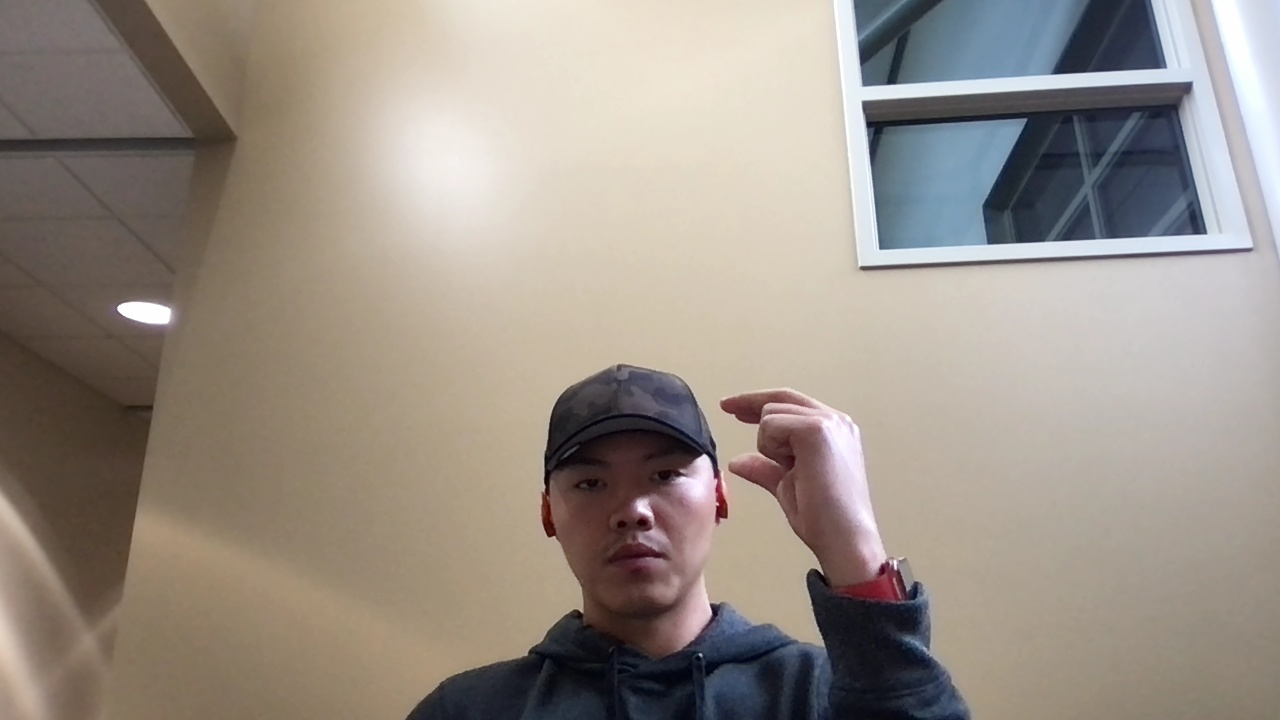No: (717, 385, 889, 558)
